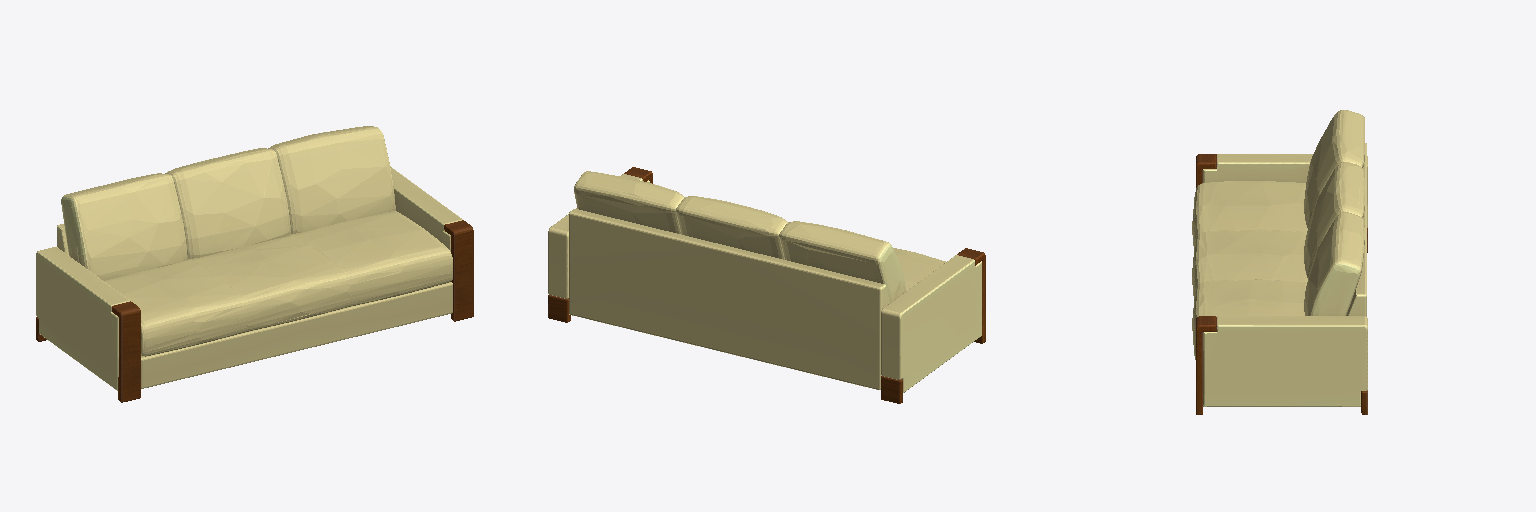
The picture shows the model from 3 angles: view 1: azimuth 30°, elevation 25°; view 2: azimuth 150°, elevation 25°; view 3: azimuth 270°, elevation 25°; orthographic projection.
Visible parts, largest first — view 1: solid_001, solid_002; view 2: solid_001, solid_002; view 3: solid_001, solid_002.
Part boxes in pixels (x1,y1,x2,y2): solid_001: (36, 126, 462, 390); solid_002: (36, 220, 473, 402); solid_001: (548, 171, 981, 392); solid_002: (548, 167, 985, 403); solid_001: (1192, 110, 1367, 406); solid_002: (1196, 154, 1367, 414).
Bounding box in the file's own units: 2 × 0.7985 × 0.8633.
Materials: 1 (1 with a texture image).